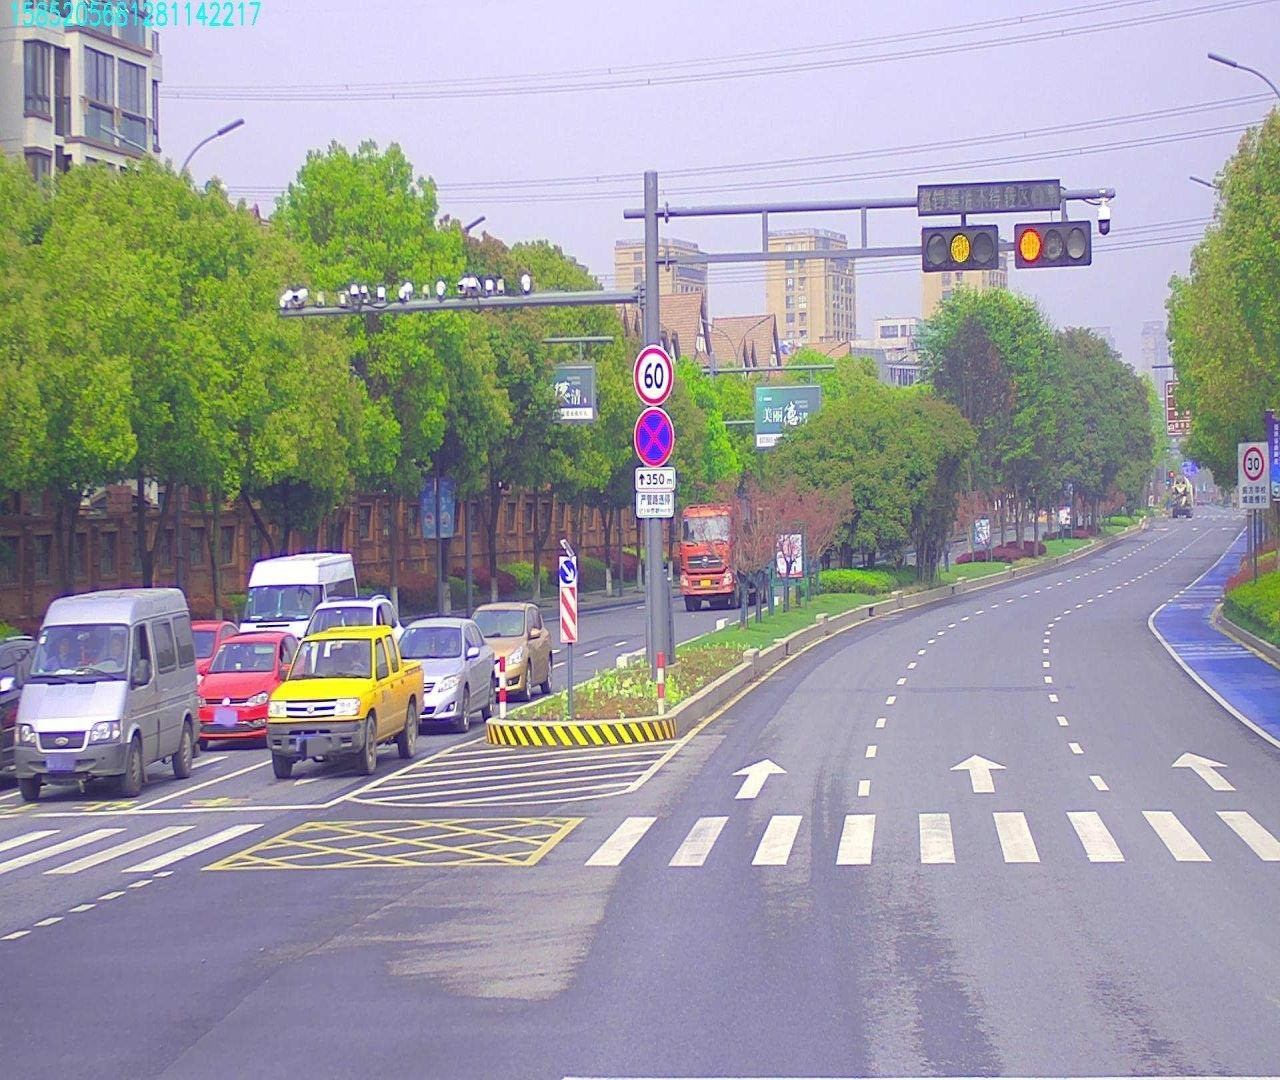red: (1020, 231, 1090, 269)
yellow: (928, 226, 990, 270)
